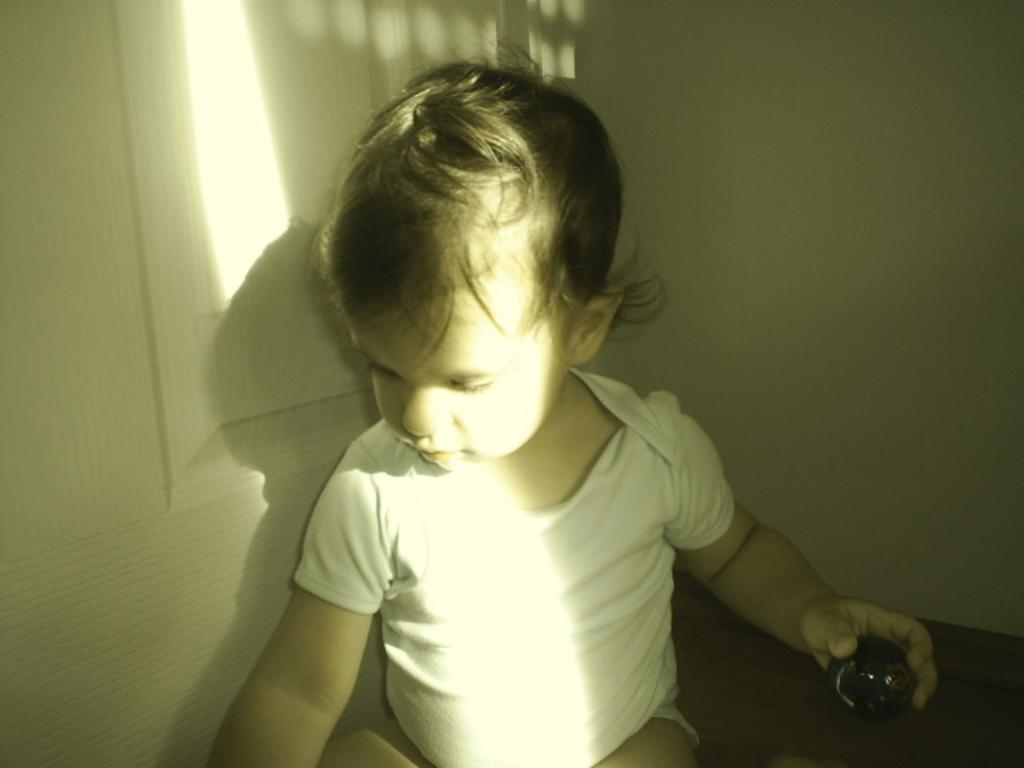Sem Máscara: (342, 230, 573, 479)
